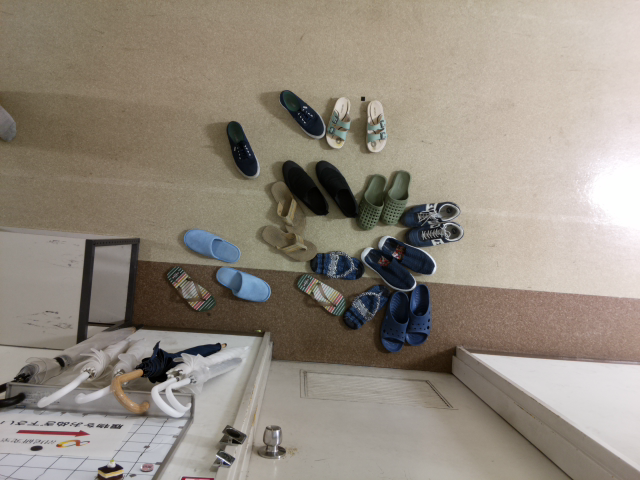Copy of Copy of Copy of Copy of Copy of Copy of Copy of Copy of Copy of Copy of: (284, 264, 353, 319), (309, 153, 364, 221), (333, 277, 394, 338), (358, 240, 423, 292), (378, 229, 443, 281), (374, 281, 417, 359), (400, 213, 475, 251), (303, 245, 370, 287), (395, 194, 470, 231), (400, 281, 437, 351), (353, 168, 388, 234), (379, 164, 414, 230)
Copy of Copy of Copy of Copy of Copy of Copy of Copy of Copy of Copy of shoe: (279, 153, 334, 221)
Copy of Copy of Copy of Copy of Copy of Copy of Copy of Copy of shoe: (265, 174, 314, 238)
Copy of Copy of Copy of Copy of Copy of Copy of Copy of shoe: (255, 217, 321, 264)
Copy of Copy of Copy of Copy of Copy of Copy of shoe: (358, 93, 398, 156)
Copy of Copy of Copy of Copy of Copy of shoe: (317, 90, 357, 153)
Copy of Copy of Copy of Copy of Copy of umbrella: (1, 319, 136, 415)
Copy of Copy of Copy of Copy of shoe: (272, 80, 331, 145)
Copy of Copy of Copy of Copy of umbrella: (33, 322, 151, 416)
Copy of Copy of Copy of shoe: (218, 117, 270, 184)
Copy of Copy of Copy of umbrella: (68, 326, 156, 417)
Copy of Copy of shoe: (211, 260, 279, 308)
Copy of Copy of umbrella: (111, 336, 232, 424)
Copy of shoe: (158, 259, 224, 317)
Copy of umbrella: (163, 348, 259, 419)
shoe: (175, 219, 247, 266)
umbrella: (149, 334, 258, 422)
